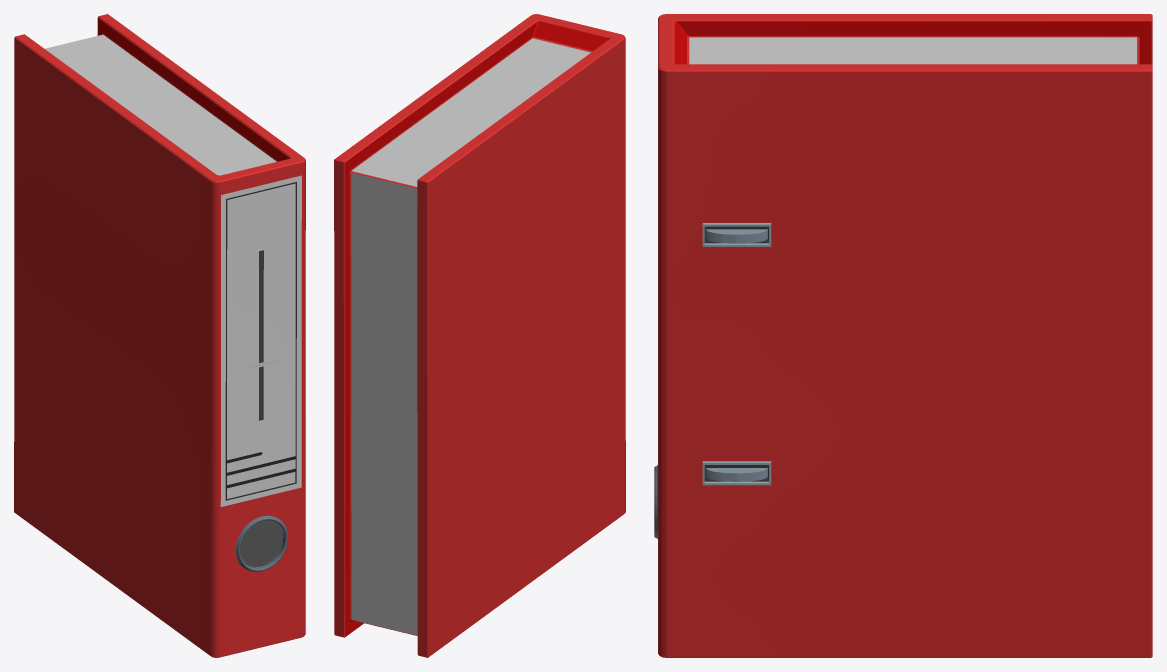
File: SM_FolderRing_Red.fbx
3 views of the same model, side by side, from view 1: azimuth 30°, elevation 25°; view 2: azimuth 150°, elevation 25°; view 3: azimuth 270°, elevation 25° (orthographic). The views are drawn at different scales.
Parts seen in each view (by area): view 1: SM_FolderRing_Red; view 2: SM_FolderRing_Red; view 3: SM_FolderRing_Red.
Boxes of the visible parts, x1,y1,x2,y2 form: SM_FolderRing_Red: (14,14,305,657); SM_FolderRing_Red: (334,14,625,657); SM_FolderRing_Red: (654,14,1152,657).
Bounding box in the file's own units: 8.71 × 38.5 × 29.54.
